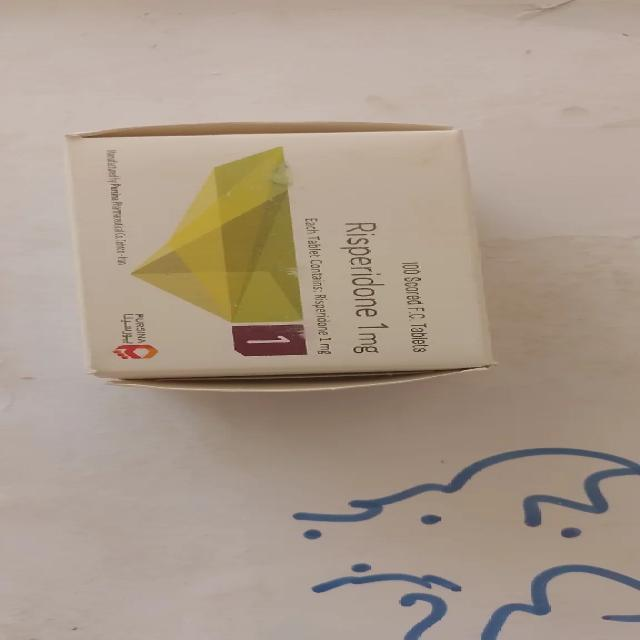drug-name: (336, 221, 387, 321)
